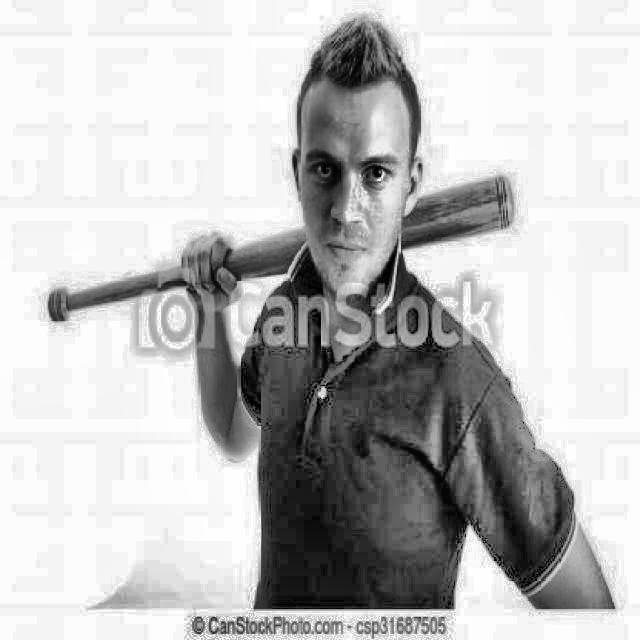tongkat pemukul: (41, 161, 524, 334)
